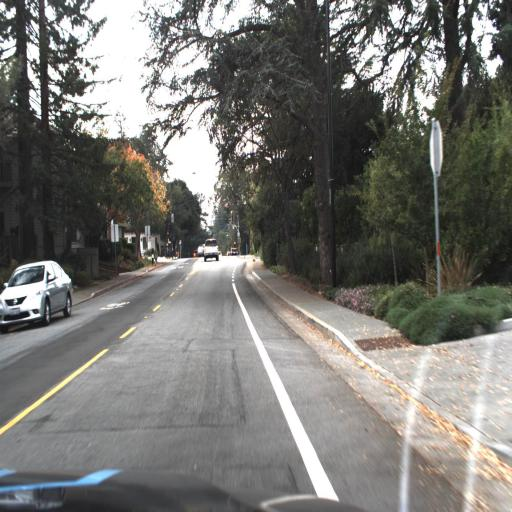car: (0, 260, 73, 334), (204, 236, 219, 264)
